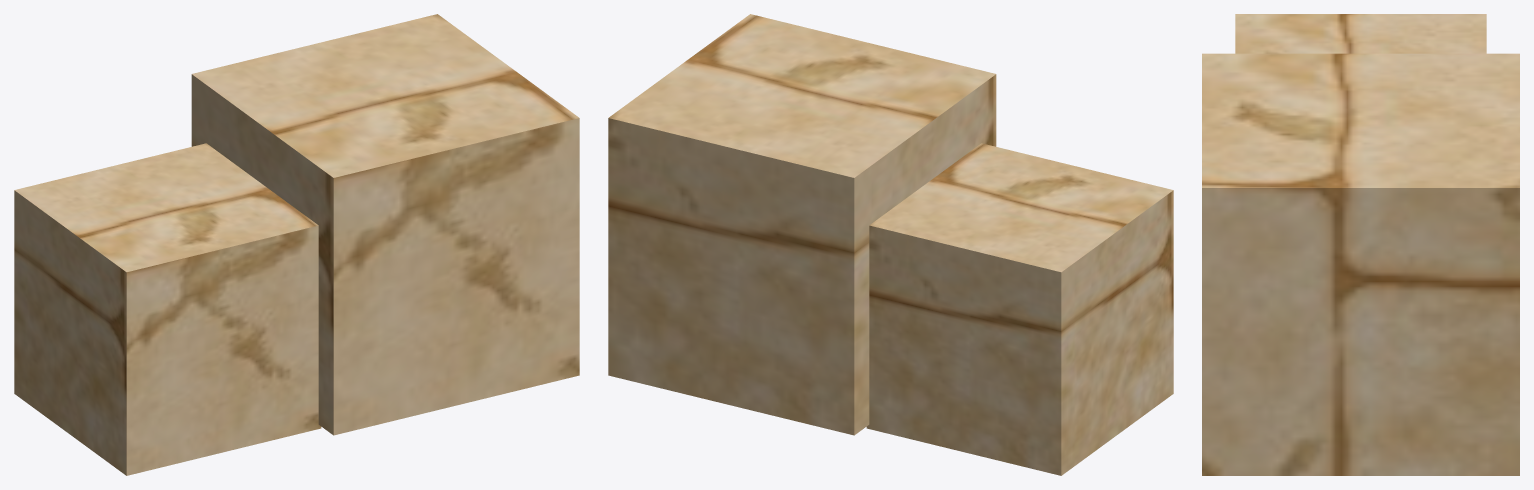
File: baseHosue.fbx
3 views of the same model, side by side, from view 1: azimuth 30°, elevation 25°; view 2: azimuth 150°, elevation 25°; view 3: azimuth 270°, elevation 25° (orthographic). The views are drawn at different scales.
Parts seen in each view (by area): view 1: Cube.025, Cube.026; view 2: Cube.025, Cube.026; view 3: Cube.025, Cube.026.
Part boxes in pixels (left/top/right/bottom): Cube.025: left=191, top=14, right=579, bottom=435; Cube.026: left=14, top=143, right=321, bottom=475; Cube.025: left=608, top=14, right=996, bottom=435; Cube.026: left=866, top=143, right=1173, bottom=475; Cube.025: left=1202, top=53, right=1519, bottom=475; Cube.026: left=1235, top=14, right=1486, bottom=53.
Bounding box in the file's own units: 476 × 272 × 267.
